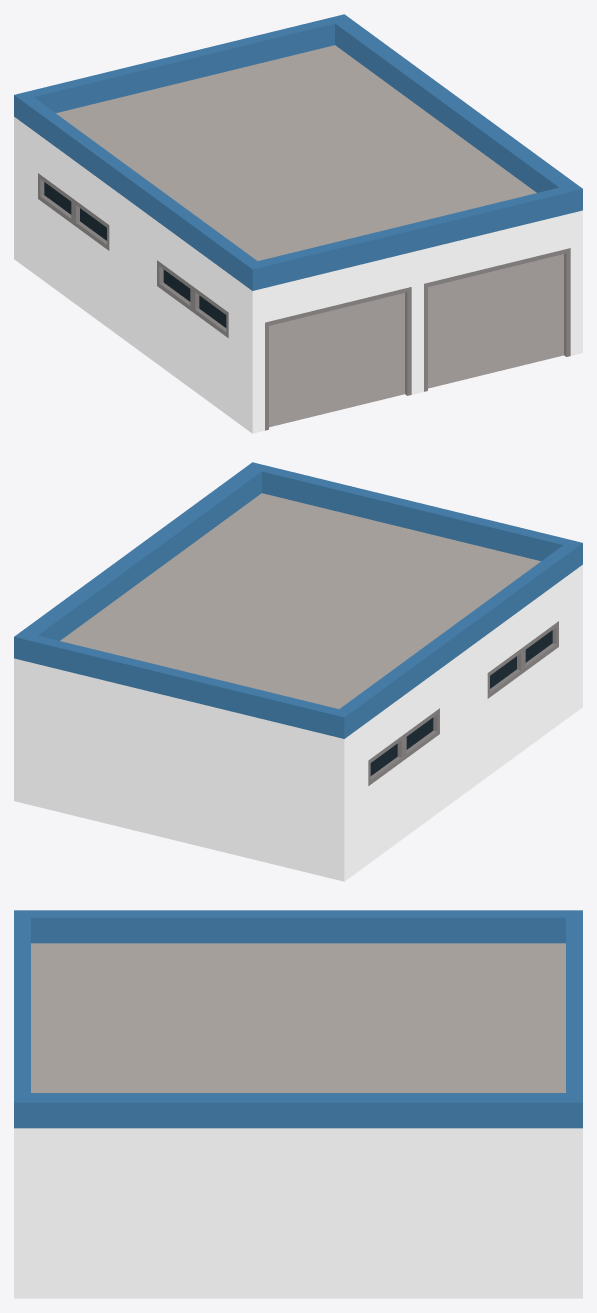
Rendered from building-policestation-garage.glb.
3 renders of one model, top to bottom at view 1: azimuth 30°, elevation 25°; view 2: azimuth 150°, elevation 25°; view 3: azimuth 270°, elevation 25°, orthographic. The views are drawn at different scales.
Visible parts, largest first — view 1: building-policestation-garage; view 2: building-policestation-garage; view 3: building-policestation-garage.
Boxes of the visible parts, box(x1,y1,x2,y2) form: building-policestation-garage: box(14, 14, 582, 433); building-policestation-garage: box(14, 462, 582, 881); building-policestation-garage: box(14, 910, 582, 1298).
Bounding box in the file's own units: 8 × 3.8 × 10.
Materials: 1 (1 with a texture image).
